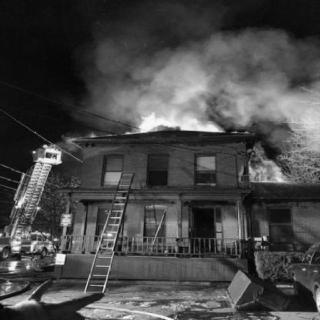Fire: (84, 64, 312, 183)
Smoke: (138, 16, 301, 110)
